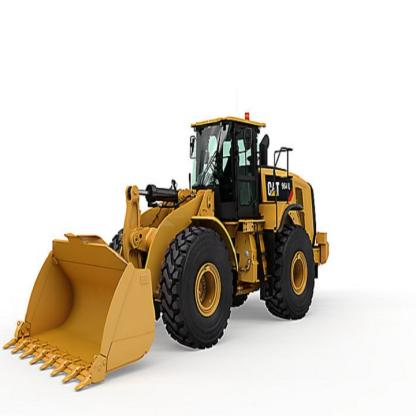bull_dozer/loader/grader: (4, 113, 328, 394)
